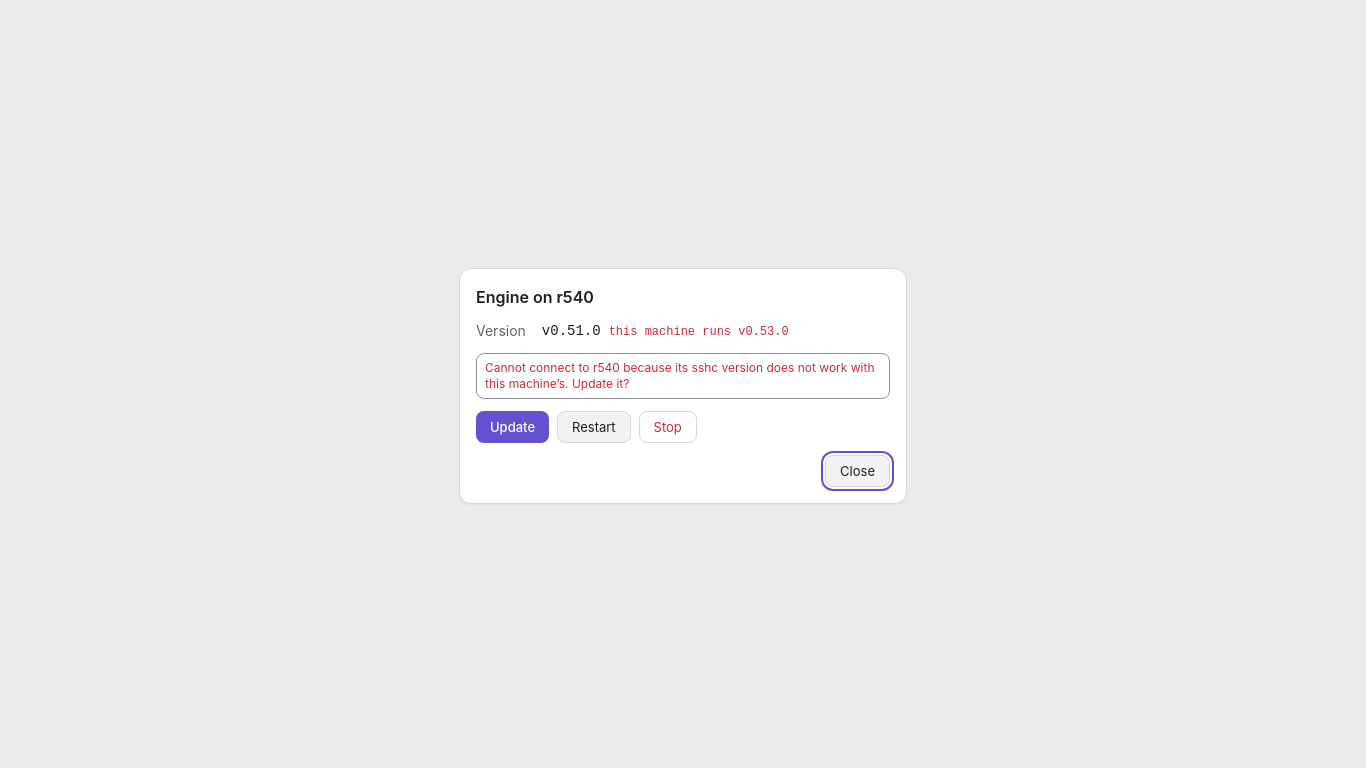
Scenario: EngineInfoDialog › shows both versions and clears the update prompt once the updated engine answers
Expected: the text "Cannot connect to r540 because its sshc version does not work with this machine’s. Update it?" is shown, x1=485 y1=360 x2=874 y2=391
Expected: the text "Version" is shown once, x1=476 y1=321 x2=526 y2=341
Click the button "Update" at (512, 427), box x1=476 y1=411 x2=549 y2=443
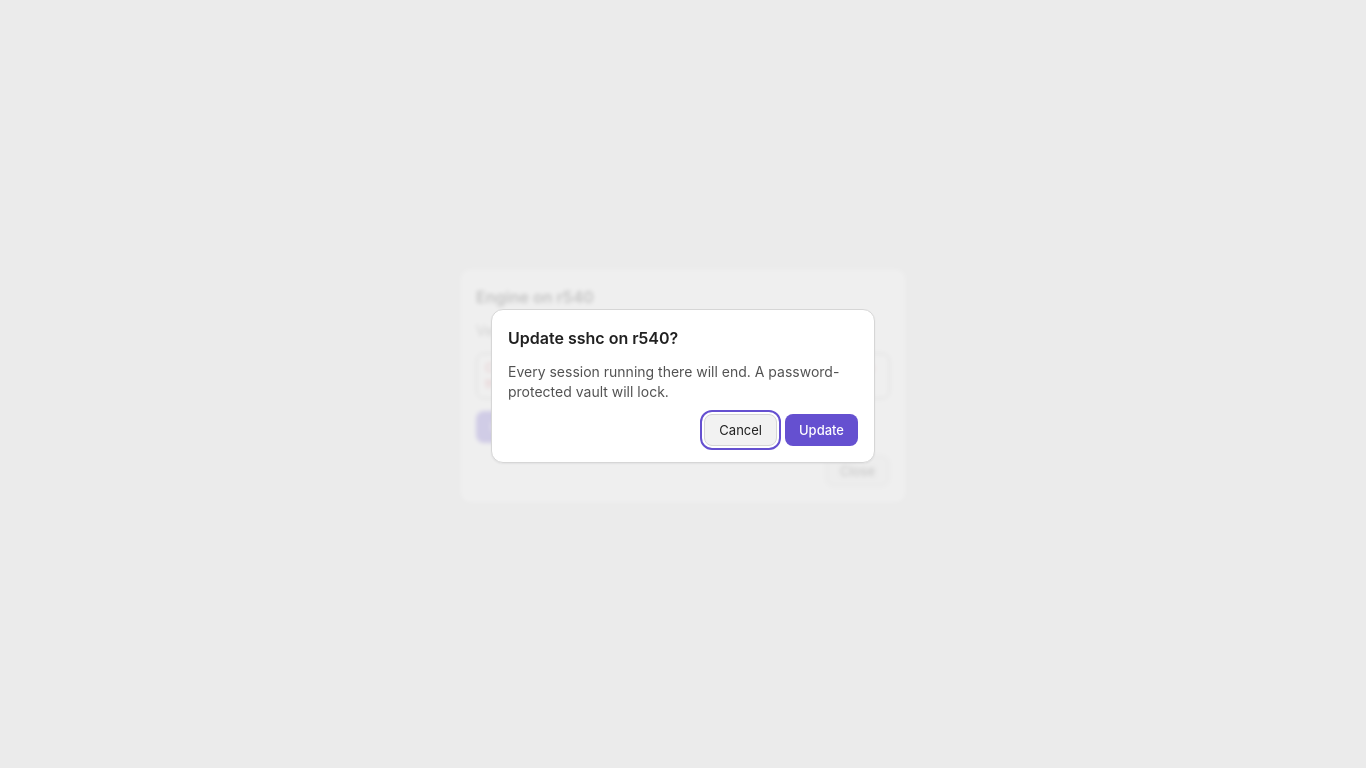
Now the text "Every session" is shown, box x1=508 y1=363 x2=839 y2=400
Click the button "Update" at (822, 430), box x1=785 y1=414 x2=858 y2=446
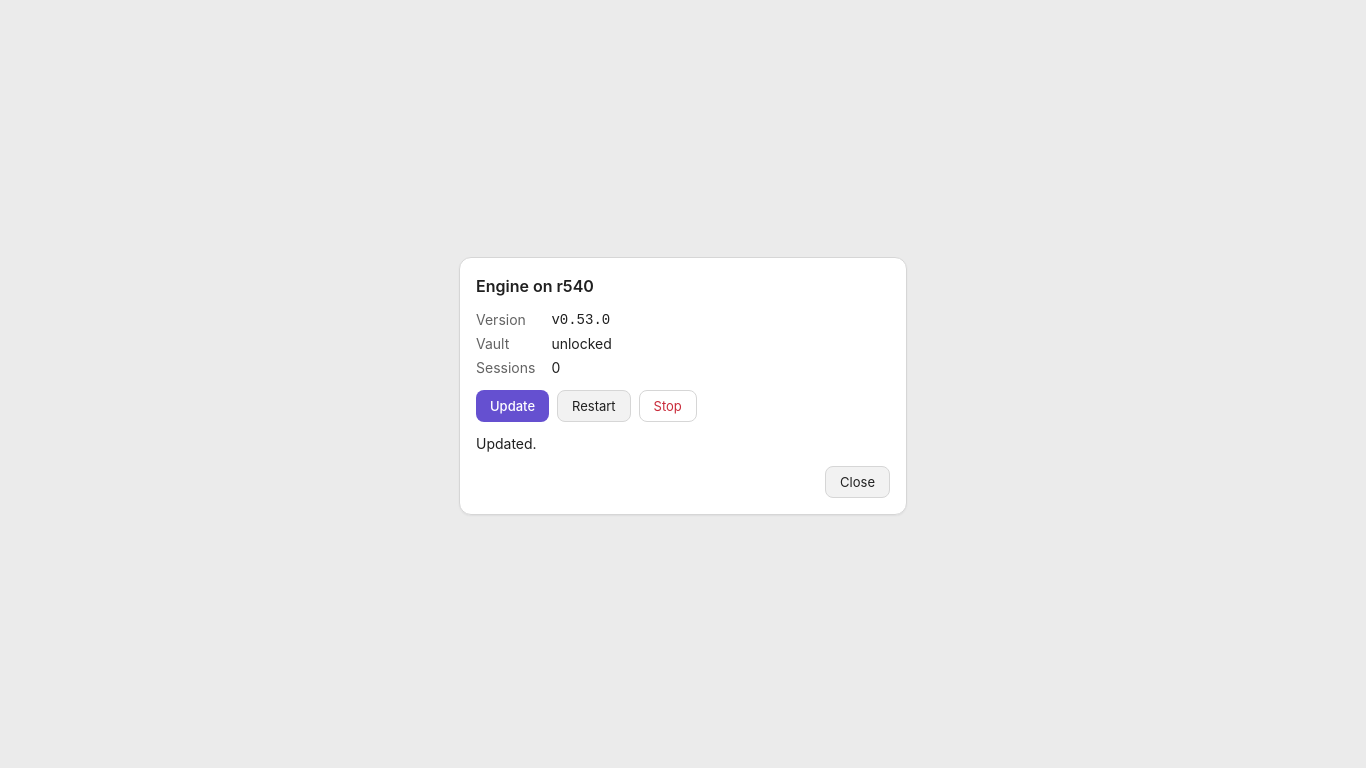
Now the text "Vault" is shown, box x1=476 y1=335 x2=509 y2=352
Now the text "Cannot connect to r540 because its sshc version does not work with this machine’s. Update it?" is gone
Now the text "Version" is shown once, box x1=476 y1=311 x2=526 y2=328
